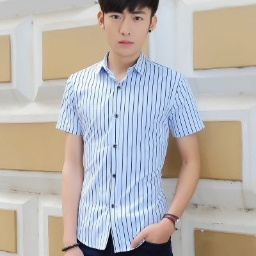face: (92, 1, 161, 59)
